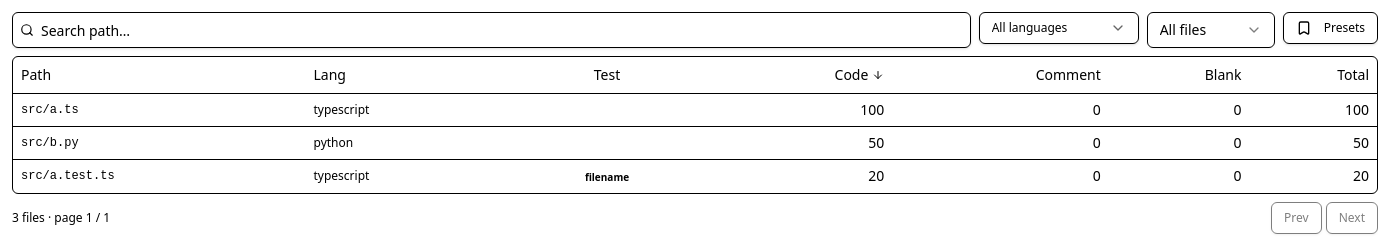
Scenario: fileTable › filters to source files only
The image size is (1390, 251).
# open the test-filter Select trigger by role and click "Source only"
Click the dropdown: x=1211, y=30 [1147, 12, 1275, 48]
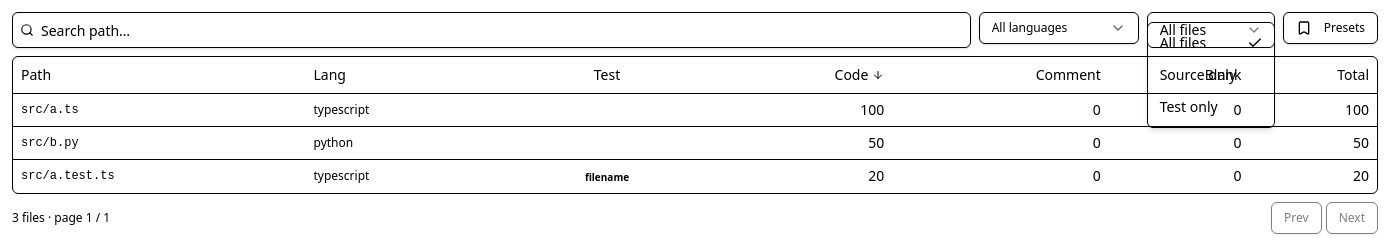
Click the option "Source only": x=1198, y=74 [1160, 65, 1236, 84]
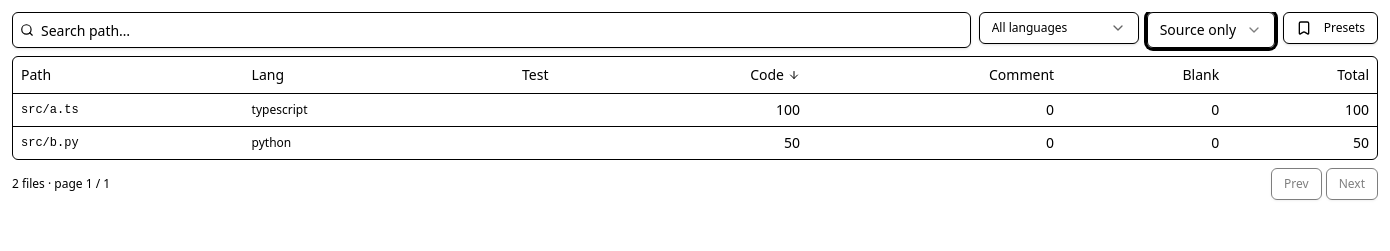
Result: the text "src/a.test.ts" is gone
